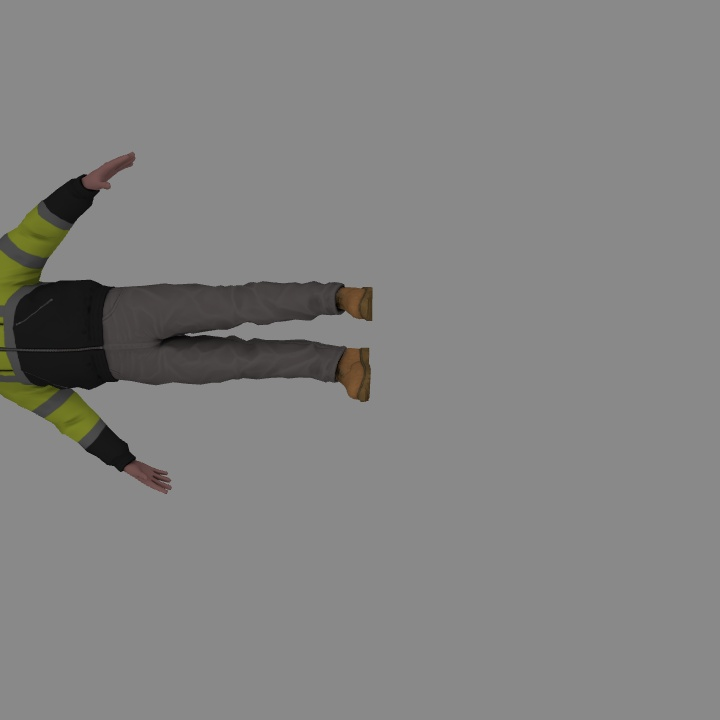victim: (1, 152, 373, 492)
